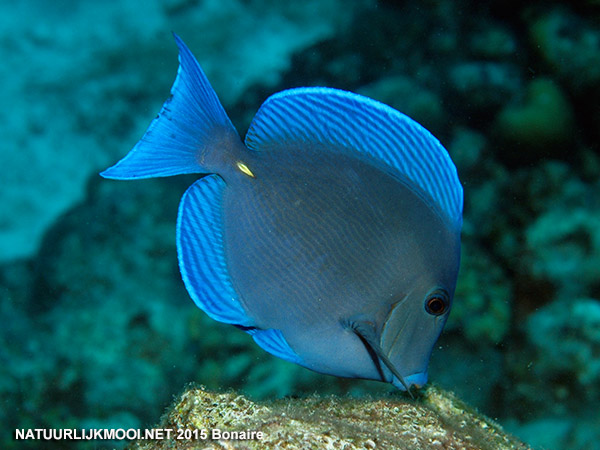Acanthurus_coeruleus: (96, 29, 465, 395)
